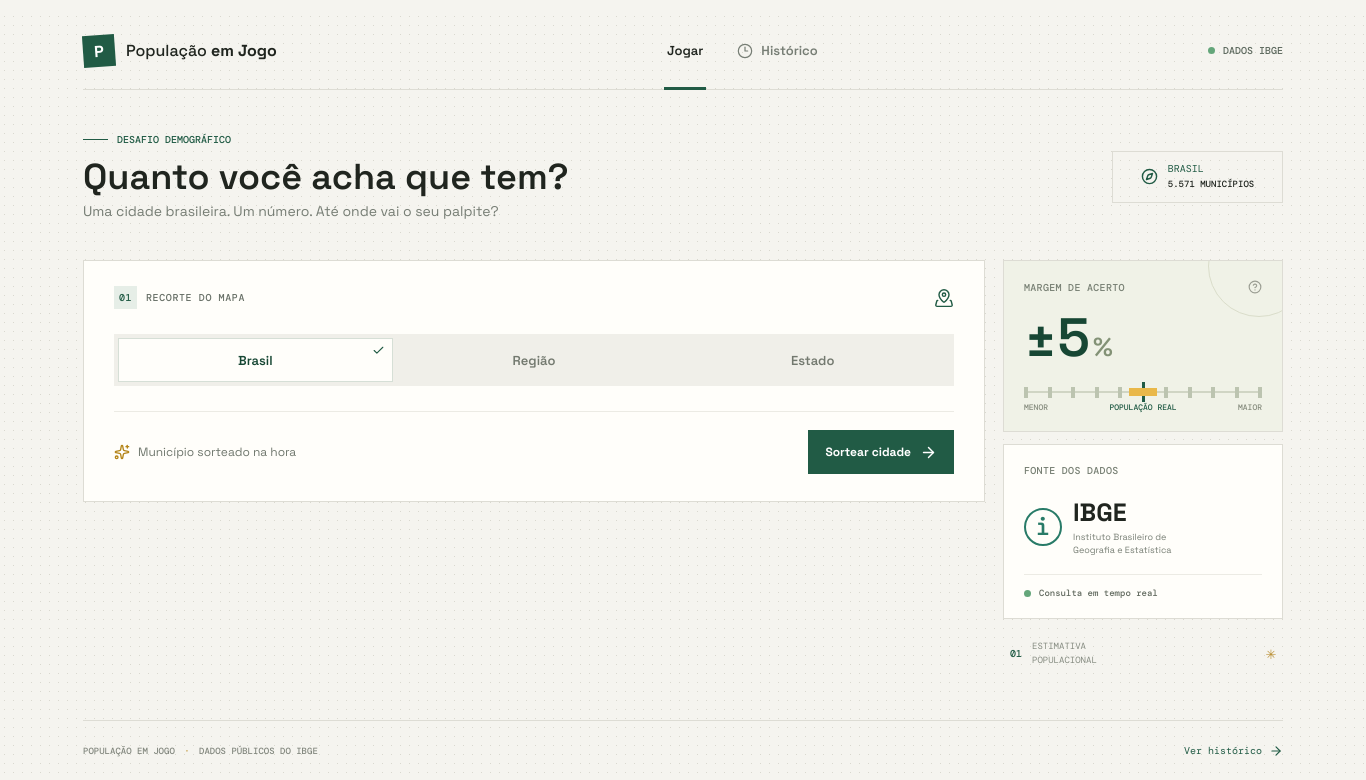
Test: App › inicia uma partida e revela cidade e estado, mas mantém a população em segredo
The width and height of the screenshot is (1366, 780).
Click the button "Sortear cidade".
click(881, 452)  # box [808, 430, 954, 474]
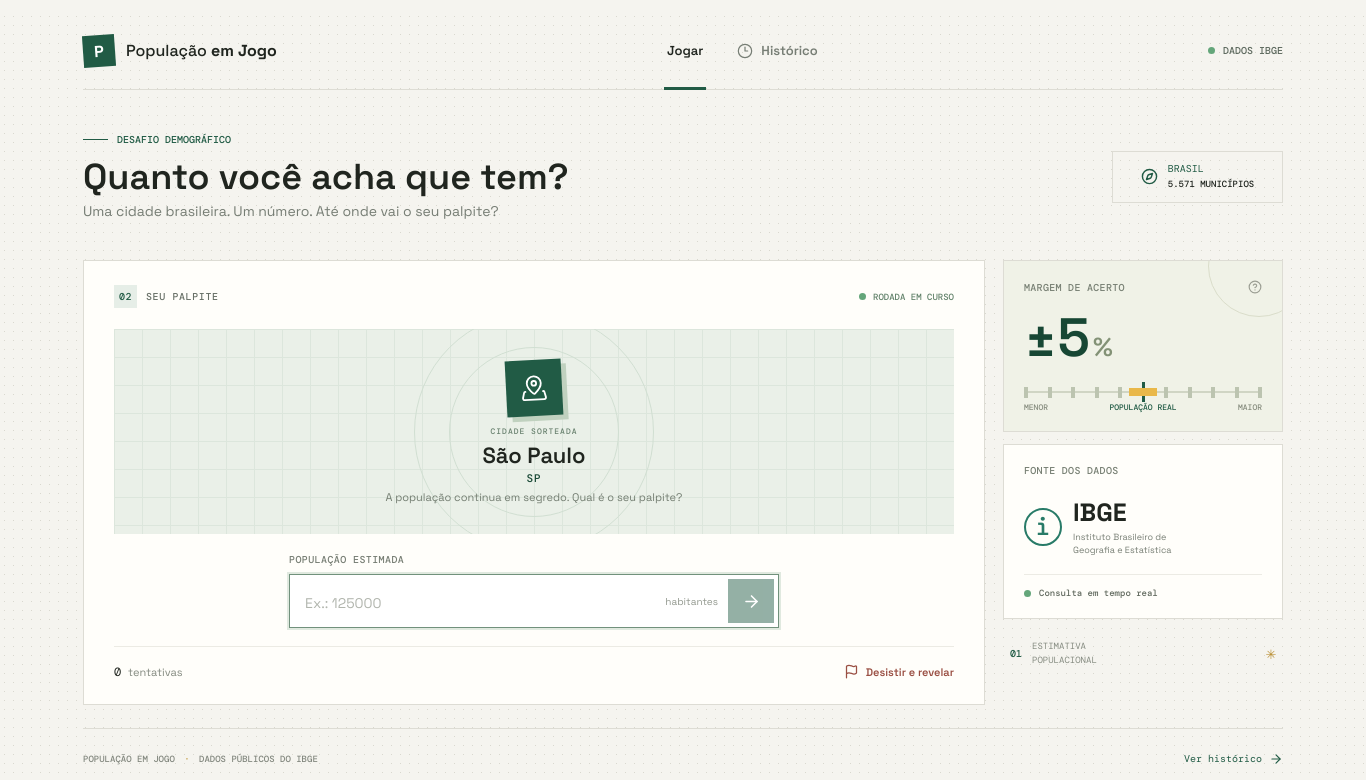
Check: the text "CIDADE SORTEADA" is shown, box [490, 426, 578, 436]
Check: the heading "São Paulo" is shown, box [482, 440, 586, 468]
Check: the text "SP" is shown, box [526, 470, 542, 484]
